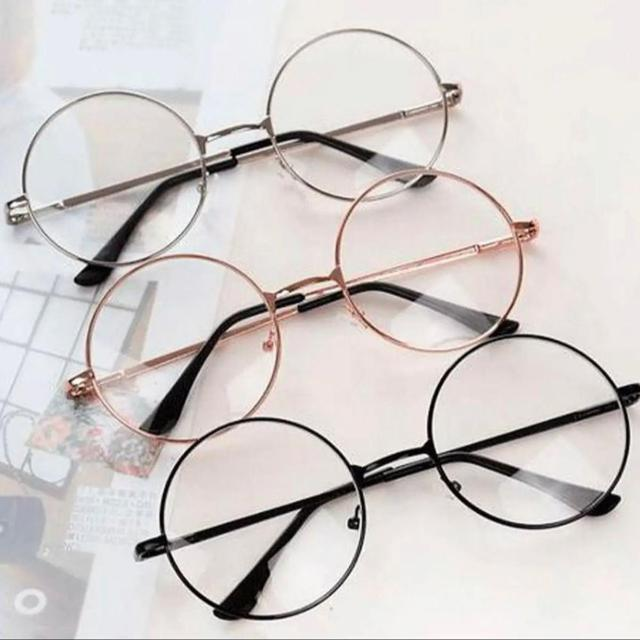glasses: (101, 315, 635, 636), (46, 137, 549, 464), (5, 5, 480, 293)
